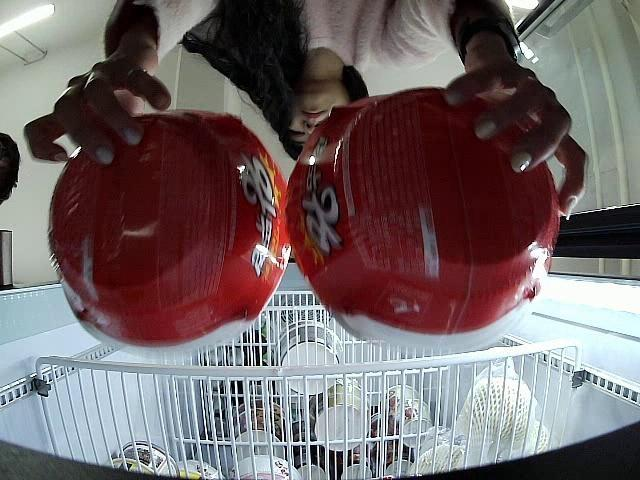10_wangTtukkeong: (287, 86, 560, 352), (46, 110, 286, 356)
